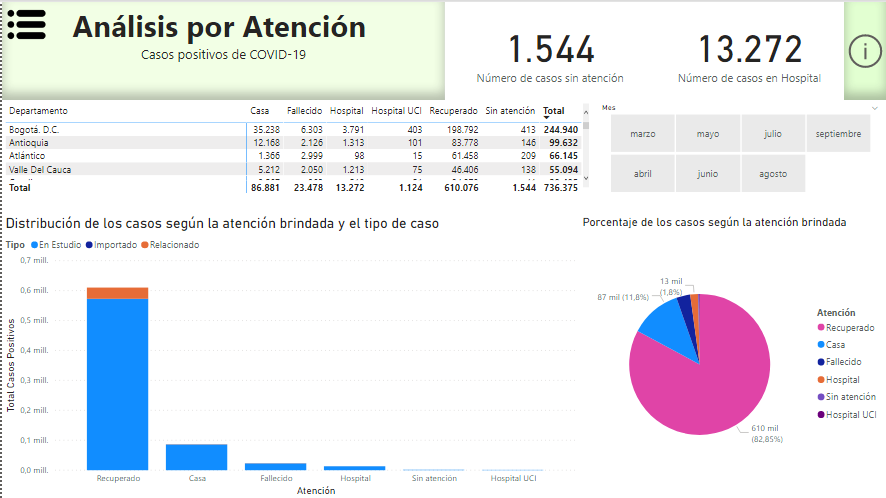

The page's visual inventory and layout, read from the dashboard file:
{"tool":"powerbi","page":{"name":"Análisis por Atención brindada","canvas":[1280,720],"ordinal":4},"visuals":[{"type":"columnChart","title":"Distribución de los casos según  la atención brindada y el tipo de caso","fields":{"Category":["DimAtención.Atención"],"Y":["Fact Casos Covid.Total Casos Positivos"],"Series":["DimTipo.Tipo"]},"box":[0,308,835.7,412],"z":0},{"type":"pieChart","title":"Porcentaje de los casos según la atención brindada","fields":{"Category":["DimAtención.Atención"],"Y":["Fact Casos Covid.Total Casos Positivos"]},"box":[834.9,307.4,445.1,413.2],"z":1000},{"type":"textbox","box":[0,0,640.5,141.7],"z":2000},{"type":"actionButton","box":[1217.3,0,62.2,141.7],"z":3000},{"type":"pivotTable","fields":{"Values":["Fact Casos Covid.Total Casos Positivos"],"Columns":["DimAtención.Atención"],"Rows":["DimCiudad.Departamento"]},"box":[0,141.7,854.5,140.2],"z":4000},{"type":"card","fields":{"Values":["DimAtención.Número de casos sin atención"]},"box":[640.5,0,303.6,141.7],"z":5000},{"type":"slicer","fields":{"Values":["DimNotificacion.Mes"]},"box":[854.5,141.7,425.1,140.2],"z":6000},{"type":"card","fields":{"Values":["DimAtención.Número de casos en Hospital"]},"box":[944.1,0,273.3,141.7],"z":7000},{"type":"image","box":[0,0,70.8,65.1],"z":10000}]}

Visuals, with their boxes in screenshot pixels (x1, y1, x2, y2), scaled from the page's 1280x720 canvas onto the 886x498 screenshot:
"Distribución de los casos según  la atención brindada y el tipo de caso" columnChart: (x1=0, y1=213, x2=578, y2=497)
"Porcentaje de los casos según la atención brindada" pieChart: (x1=578, y1=213, x2=885, y2=497)
textbox: (x1=0, y1=0, x2=443, y2=98)
actionButton: (x1=843, y1=0, x2=885, y2=98)
pivotTable - Fact Casos Covid.Total Casos Positivos x DimAtención.Atención: (x1=0, y1=98, x2=591, y2=195)
card - DimAtención.Número de casos sin atención: (x1=443, y1=0, x2=653, y2=98)
slicer - DimNotificacion.Mes: (x1=591, y1=98, x2=885, y2=195)
card - DimAtención.Número de casos en Hospital: (x1=653, y1=0, x2=843, y2=98)
image: (x1=0, y1=0, x2=49, y2=45)
